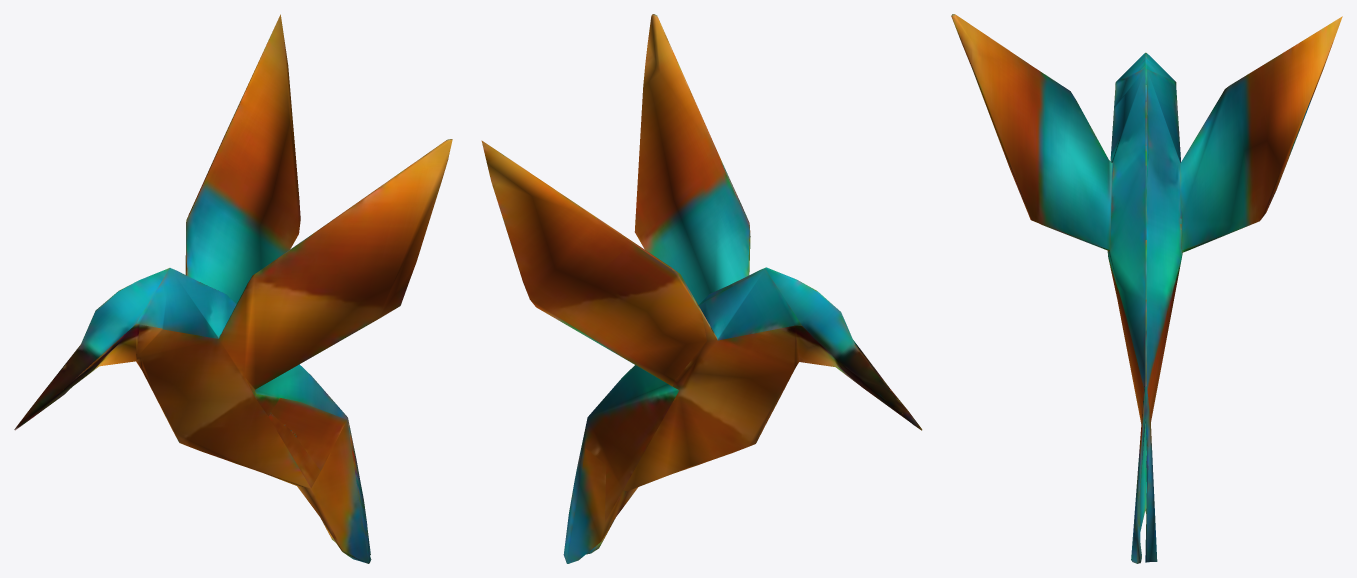
File: hummingbird.glb
3 views of the same model, side by side, from view 1: azimuth 30°, elevation 25°; view 2: azimuth 150°, elevation 25°; view 3: azimuth 270°, elevation 25° (orthographic). The views are drawn at different scales.
Visible parts, largest first — view 1: geometry_0; view 2: geometry_0; view 3: geometry_0.
Boxes of the visible parts, x1,y1,x2,y2 form: geometry_0: (14, 14, 452, 563); geometry_0: (481, 14, 922, 563); geometry_0: (951, 14, 1342, 563).
Size of the model in its own units: 0.776 by 0.9994 by 0.6471.
1 material, 1 textured.
